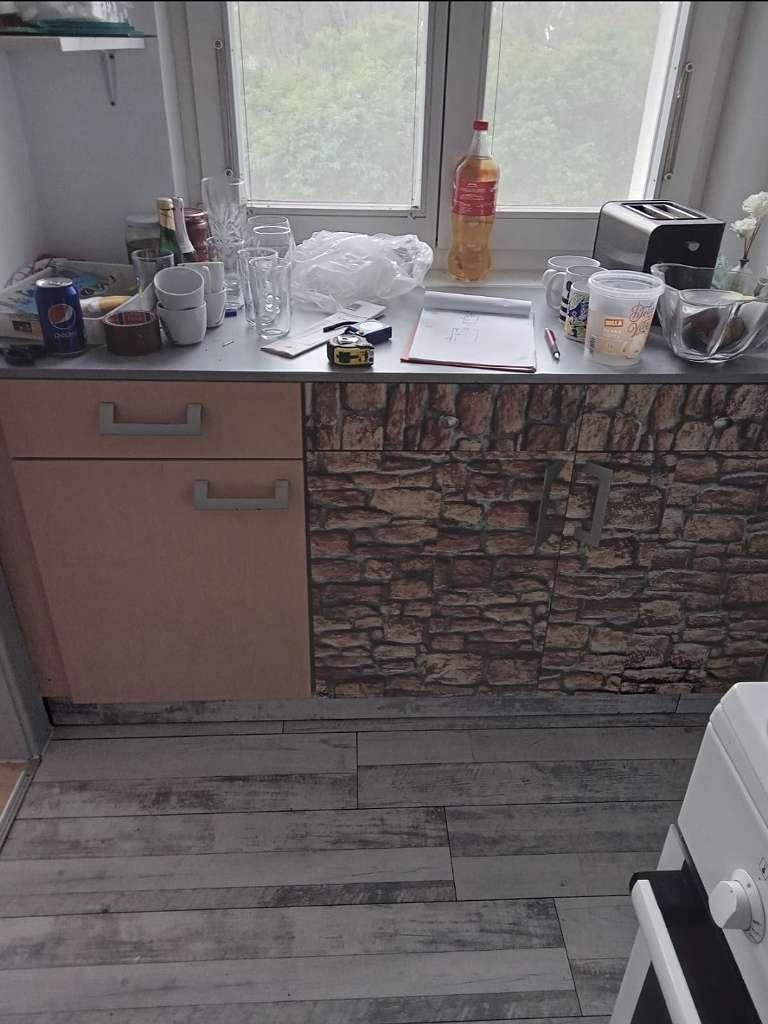cabinet_door: (15, 459, 307, 701), (5, 386, 303, 461)
handle: (189, 477, 289, 519), (102, 398, 206, 437)
